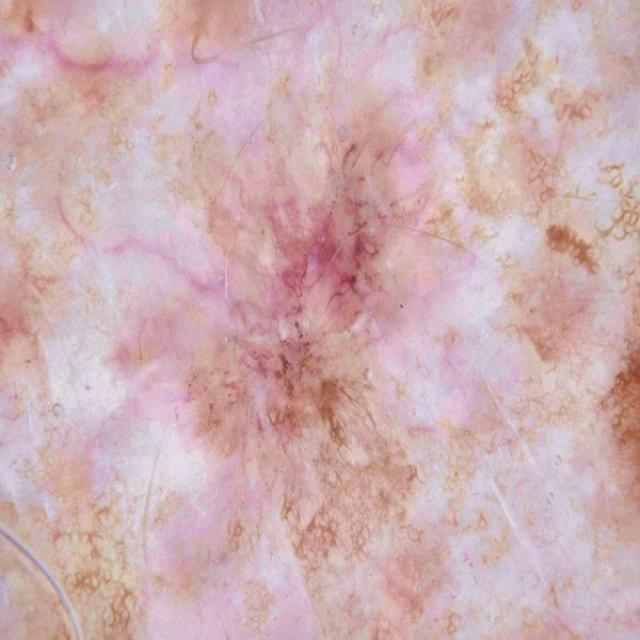Basal-Cell-Carcinoma-BCC-: (29, 64, 568, 571)
